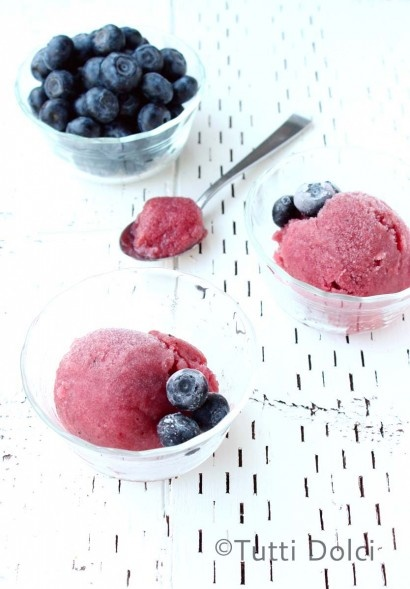background: (34, 117, 147, 417), (89, 144, 262, 308), (17, 20, 127, 161), (47, 59, 131, 237)
